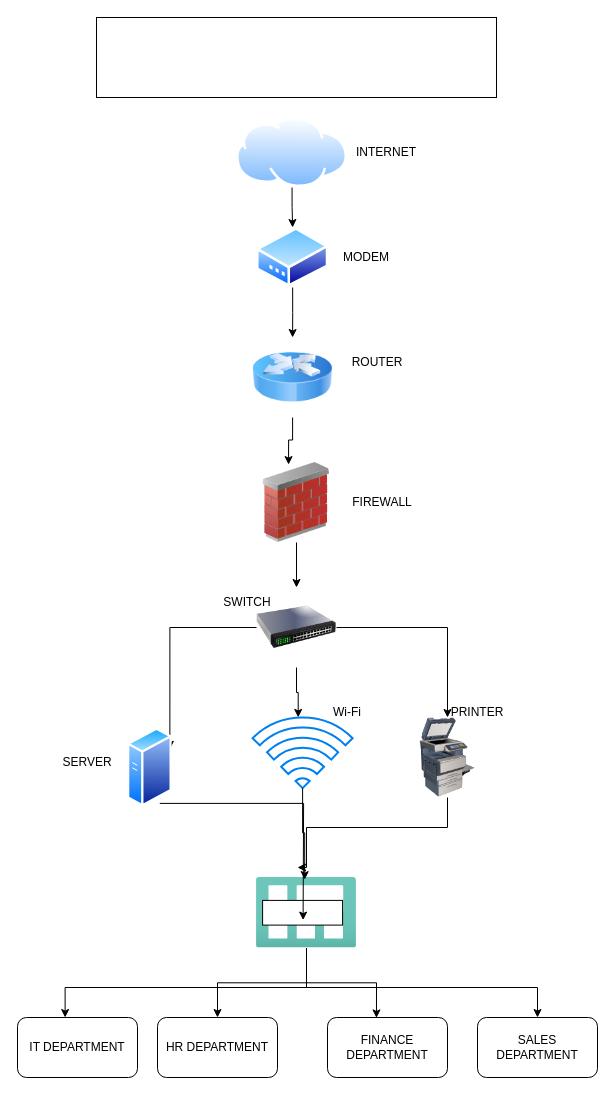
This 615x1095 diagram has some shape labels left out. Each missing label, with the centre of its shape:
DEPARTMENTS: (302,912)
ENTERPRISE NETWORK TOPOLOGY Prepared by: ARIANNA C. SURBANO BSIT 4C WAM: (296,57)
